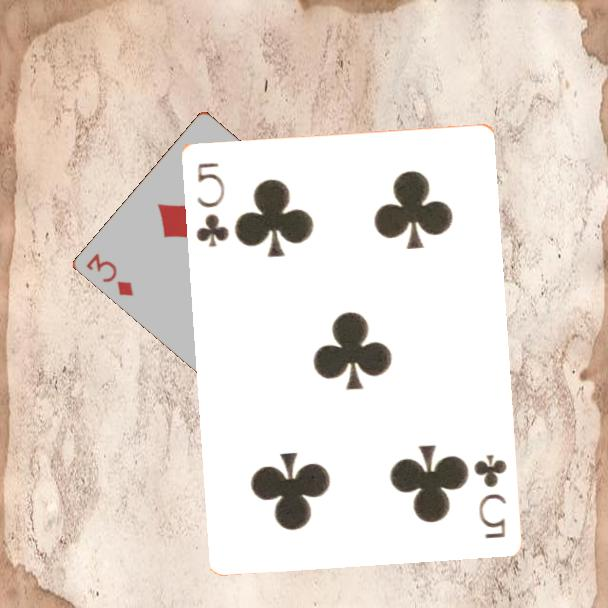c05: (192, 158, 232, 250), (470, 450, 509, 541)
d03: (83, 250, 137, 299)
